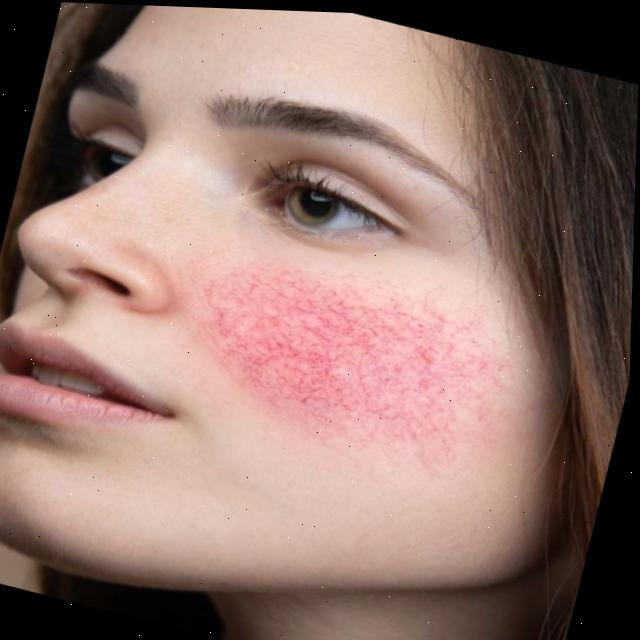Rosacea: (177, 243, 524, 485)
